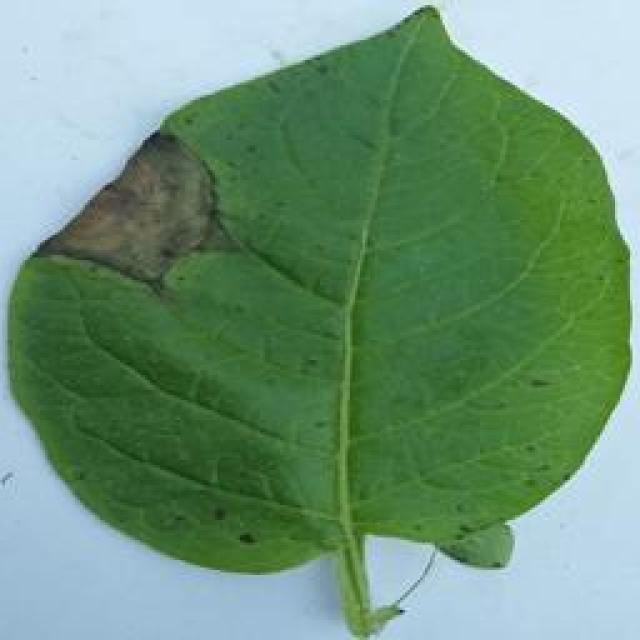Potato_Late_Blight: (9, 6, 619, 628)
